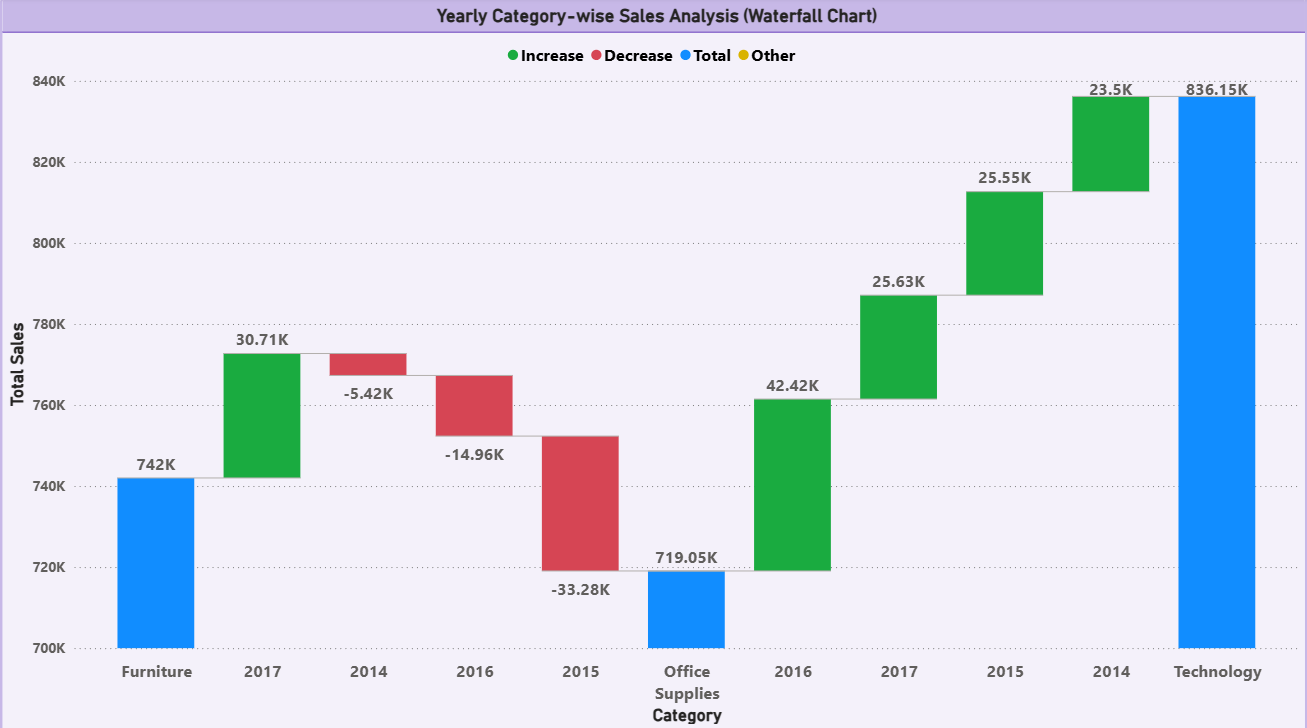

The page's visual inventory and layout, read from the dashboard file:
{"tool":"powerbi","page":{"name":"Yearly Cat Wise Sales","canvas":[1280,720],"ordinal":1},"visuals":[{"type":"waterfallChart","title":"Yearly Category-wise Sales Analysis (Waterfall Chart)","fields":{"Category":["Orders$FilterDatabase.Category"],"Y":["Sum(Orders$FilterDatabase.Sales)"],"Breakdown":["Orders$FilterDatabase.Order Date.Variation.Date Hierarchy.Year"]},"box":[0,0,1280,720],"z":0}]}

Visuals, with their boxes in screenshot pixels (x1, y1, x2, y2), scaled from the page's 1280x720 canvas onto the 1307x728 screenshot:
"Yearly Category-wise Sales Analysis (Waterfall Chart)" waterfallChart: rect(0, 0, 1306, 727)
